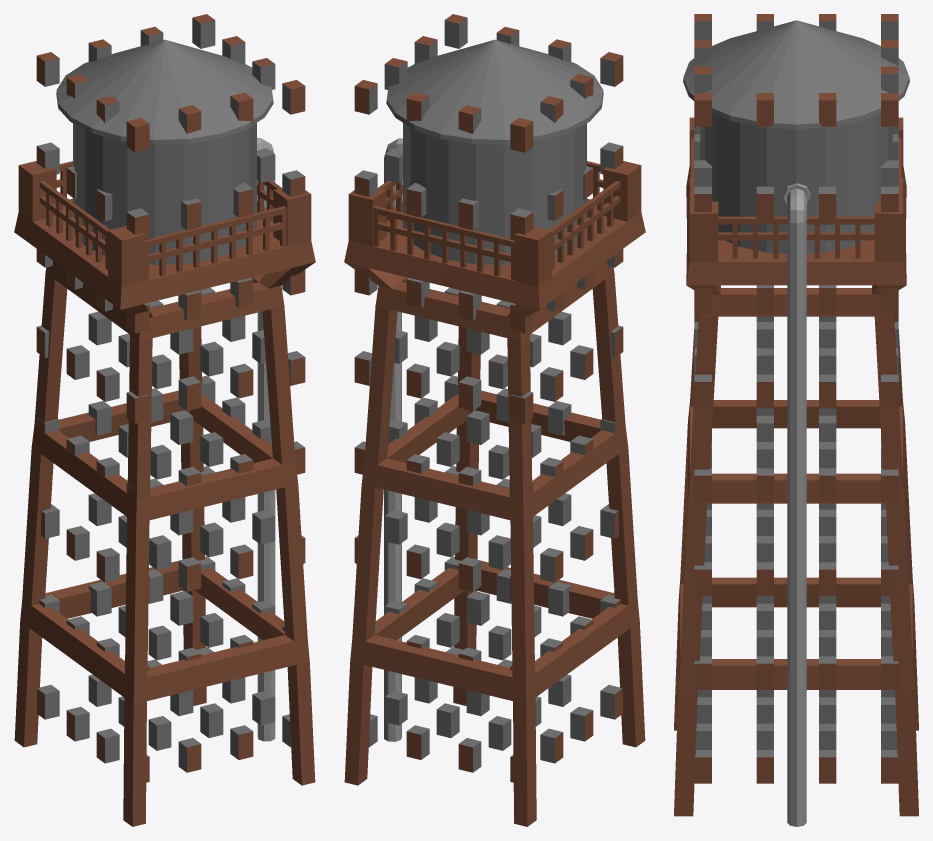
File: WaterTower_destructible.gltf
The picture shows the model from 3 angles, left to right: view 1: azimuth 30°, elevation 25°; view 2: azimuth 150°, elevation 25°; view 3: azimuth 270°, elevation 25°; orthographic projection. The views are drawn at different scales.
Parts seen in each view (by area): view 1: block_f6_r3_c1, block_f6_r3_c0, block_f7_r3_c1, block_f6_r2_c0, block_f5_r3_c0, block_f6_r3_c2, block_f7_r2_c0, block_f5_r3_c2, block_f1_r3_c0, block_f5_r3_c1, block_f3_r3_c0, block_f7_r2_c1 (+85 smaller); view 2: block_f6_r0_c1, block_f6_r0_c0, block_f7_r0_c1, block_f6_r1_c0, block_f5_r0_c0, block_f6_r0_c2, block_f7_r1_c0, block_f5_r0_c2, block_f1_r0_c0, block_f5_r0_c1, block_f3_r0_c0, block_f7_r1_c1 (+84 smaller); view 3: block_f6_r1_c3, block_f6_r2_c3, block_f5_r1_c3, block_f5_r2_c3, block_f7_r1_c3, block_f7_r2_c3, block_f5_r0_c3, block_f5_r3_c3, block_f7_r1_c2, block_f7_r2_c2, block_f1_r0_c3, block_f1_r3_c3 (+60 smaller).
Boxes of the visible parts, x1=… form: block_f6_r3_c1: x1=157, y1=162, x2=221, y2=266; block_f6_r3_c0: x1=107, y1=166, x2=169, y2=280; block_f7_r3_c1: x1=149, y1=90, x2=224, y2=168; block_f6_r2_c0: x1=77, y1=150, x2=134, y2=263; block_f5_r3_c0: x1=97, y1=260, x2=171, y2=363; block_f6_r3_c2: x1=216, y1=139, x2=273, y2=253; block_f7_r2_c0: x1=70, y1=78, x2=148, y2=166; block_f5_r3_c2: x1=207, y1=236, x2=275, y2=321; block_f1_r3_c0: x1=107, y1=636, x2=175, y2=735; block_f5_r3_c1: x1=156, y1=254, x2=223, y2=334; block_f3_r3_c0: x1=114, y1=450, x2=171, y2=550; block_f7_r2_c1: x1=119, y1=39, x2=200, y2=112; block_f6_r0_c1: x1=438, y1=162, x2=502, y2=266; block_f6_r0_c0: x1=490, y1=166, x2=552, y2=280; block_f7_r0_c1: x1=435, y1=90, x2=510, y2=168; block_f6_r1_c0: x1=525, y1=150, x2=582, y2=263; block_f5_r0_c0: x1=488, y1=260, x2=562, y2=363; block_f6_r0_c2: x1=386, y1=139, x2=443, y2=253; block_f7_r1_c0: x1=511, y1=78, x2=589, y2=166; block_f5_r0_c2: x1=384, y1=236, x2=452, y2=321; block_f1_r0_c0: x1=484, y1=636, x2=552, y2=735; block_f5_r0_c1: x1=436, y1=254, x2=503, y2=334; block_f3_r0_c0: x1=488, y1=450, x2=545, y2=550; block_f7_r1_c1: x1=459, y1=39, x2=540, y2=112; block_f6_r1_c3: x1=796, y1=144, x2=858, y2=263; block_f6_r2_c3: x1=734, y1=144, x2=796, y2=263; block_f5_r1_c3: x1=796, y1=240, x2=858, y2=357; block_f5_r2_c3: x1=734, y1=240, x2=796, y2=357; block_f7_r1_c3: x1=796, y1=84, x2=858, y2=154; block_f7_r2_c3: x1=734, y1=84, x2=796, y2=154; block_f5_r0_c3: x1=858, y1=240, x2=906, y2=339; block_f5_r3_c3: x1=686, y1=240, x2=734, y2=339; block_f7_r1_c2: x1=796, y1=27, x2=858, y2=96; block_f7_r2_c2: x1=734, y1=27, x2=796, y2=96; block_f1_r0_c3: x1=858, y1=627, x2=915, y2=722; block_f1_r3_c3: x1=677, y1=627, x2=734, y2=722.
Size of the model in its own units: 8 by 26.63 by 7.86.
